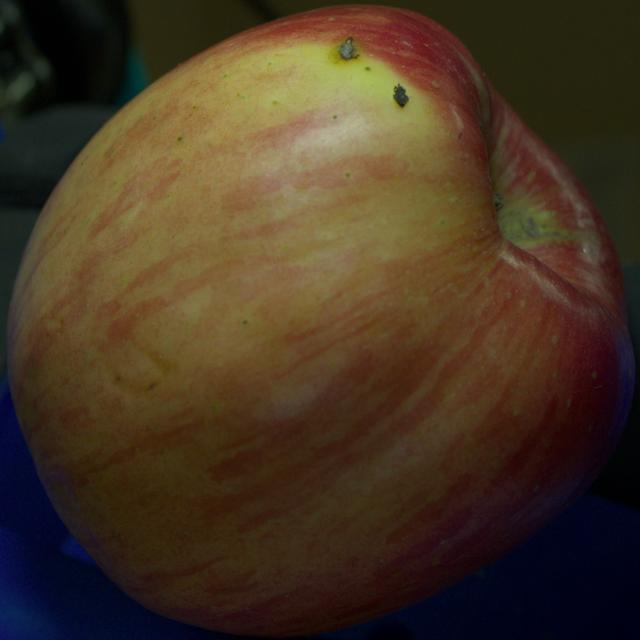apple: (8, 6, 632, 635)
pest: (339, 37, 356, 59), (394, 84, 409, 106)
